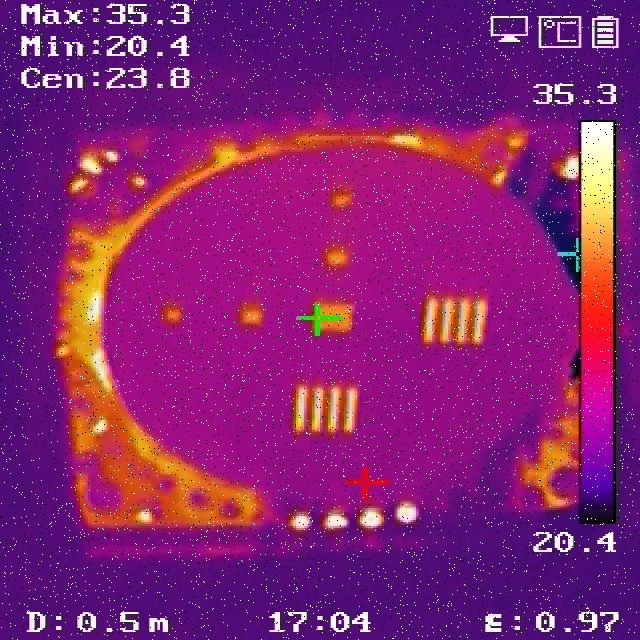Distinguishable 4-bar target: (423, 296, 488, 347), (295, 388, 356, 436)
Indistinguishable 4-bar target: (322, 309, 354, 332), (324, 249, 347, 268), (245, 307, 263, 326), (165, 308, 180, 324), (337, 194, 352, 203)
